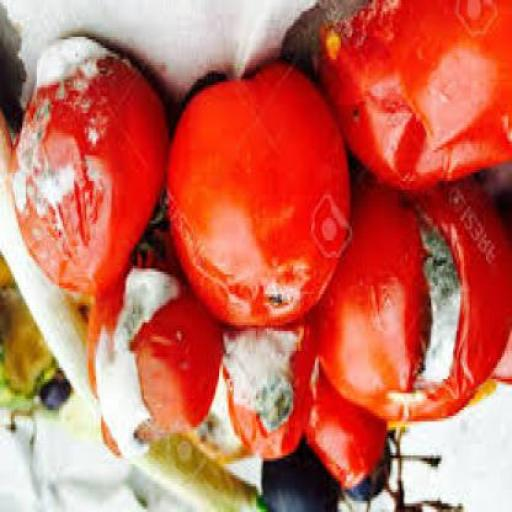biodegradable: (164, 62, 350, 334), (315, 176, 510, 430), (11, 40, 166, 297), (317, 3, 510, 198), (87, 258, 221, 456), (224, 314, 315, 466), (304, 381, 385, 490), (0, 263, 55, 418), (261, 450, 337, 511), (343, 435, 391, 507), (37, 379, 70, 414)
